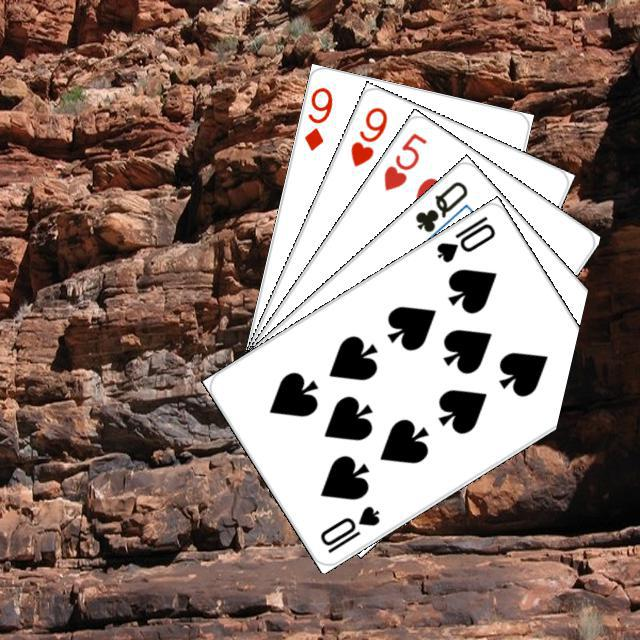10s: (315, 500, 382, 555), (431, 210, 497, 265)
5h: (378, 128, 429, 193)
9d: (299, 82, 335, 153)
9h: (345, 101, 390, 169)
Qc: (410, 176, 472, 246)
